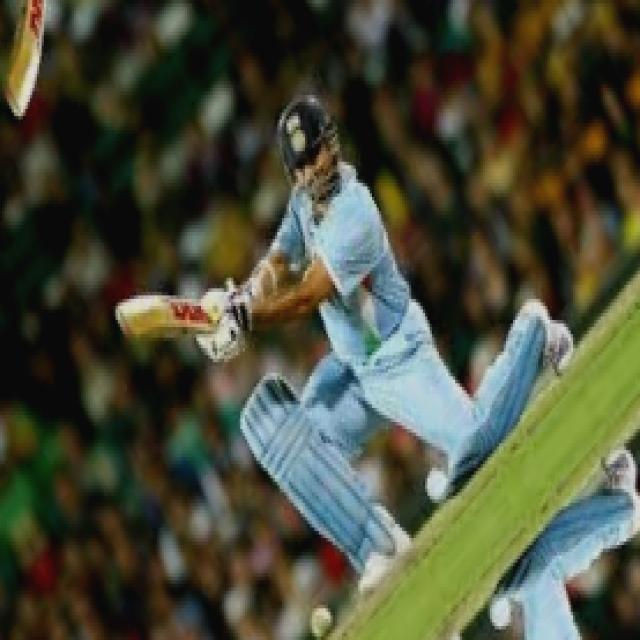toe: (113, 301, 150, 337)
